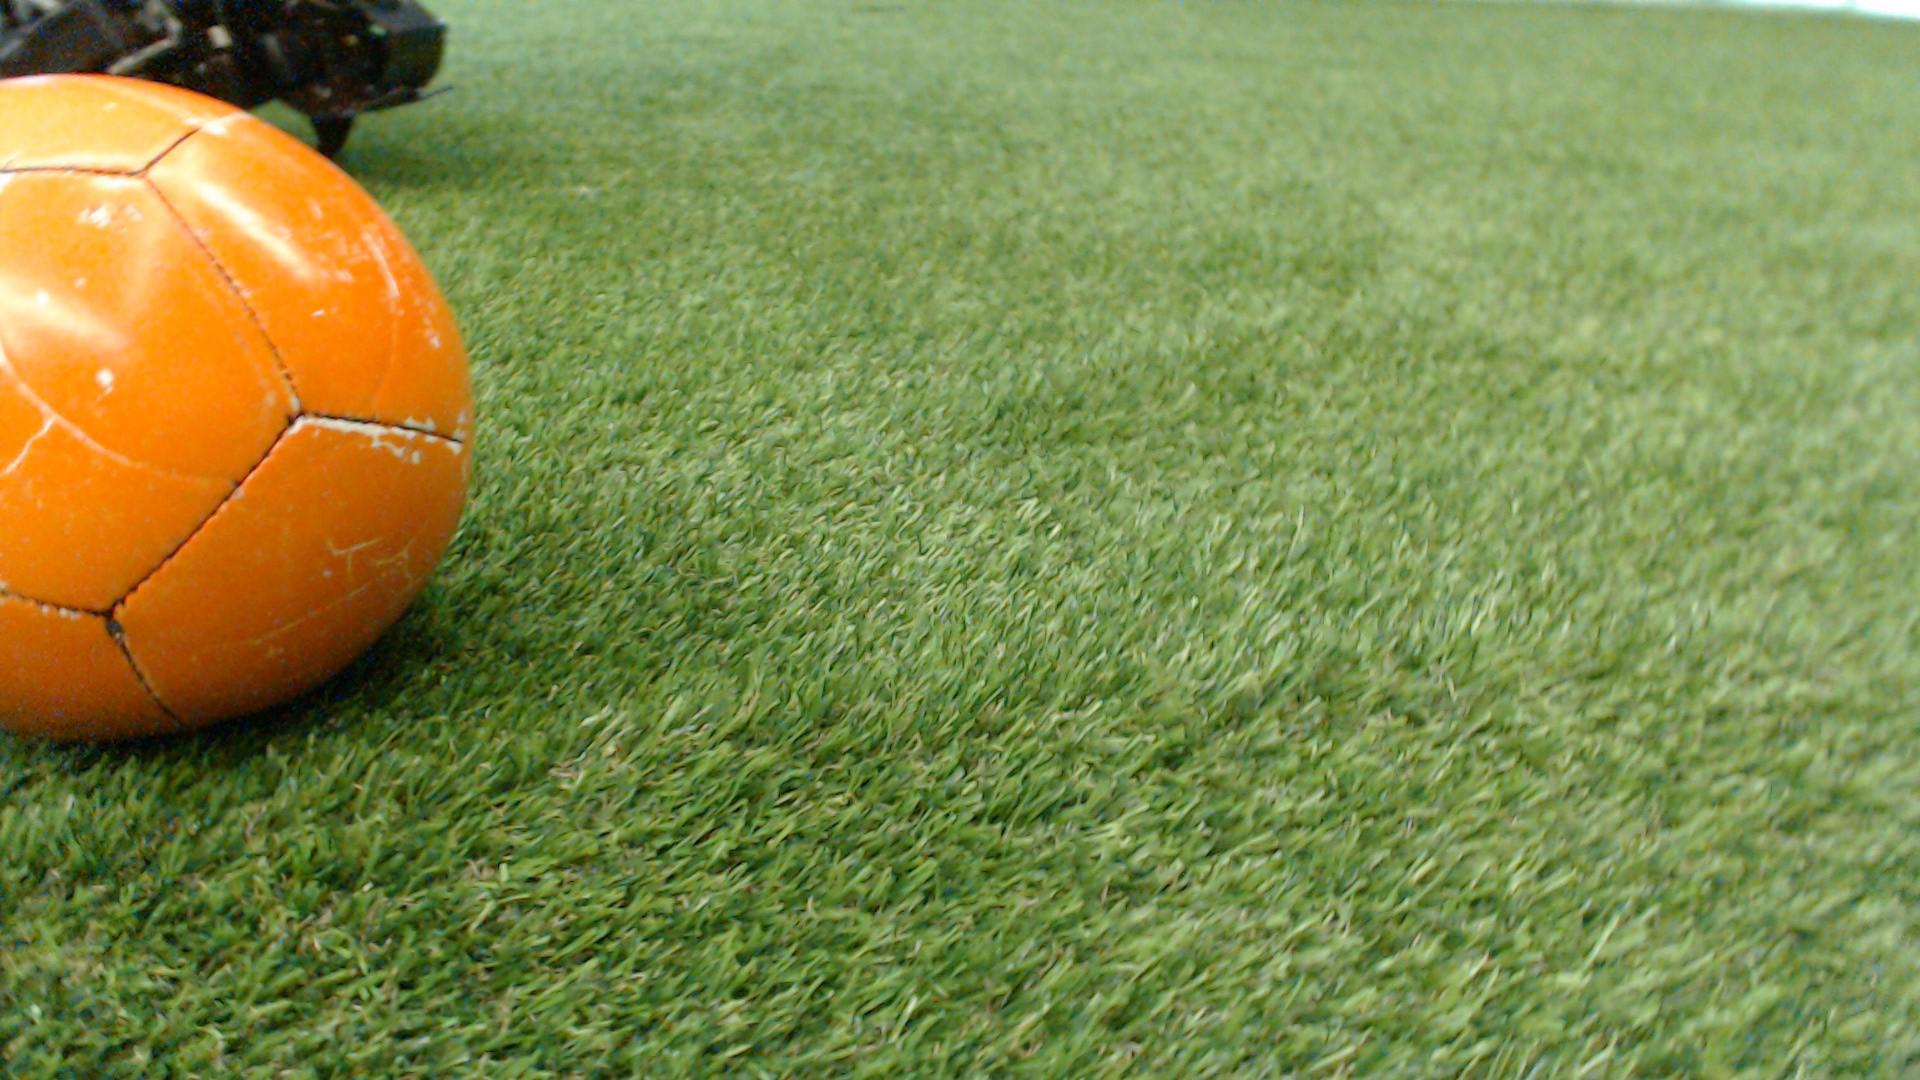bola: (0, 29, 521, 802)
